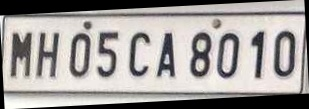character: (215, 31, 240, 79), (36, 31, 60, 77), (10, 31, 33, 77), (190, 31, 212, 78), (273, 30, 295, 76), (155, 30, 176, 77), (69, 33, 91, 77), (97, 31, 118, 77), (128, 32, 149, 76), (249, 30, 265, 80)
